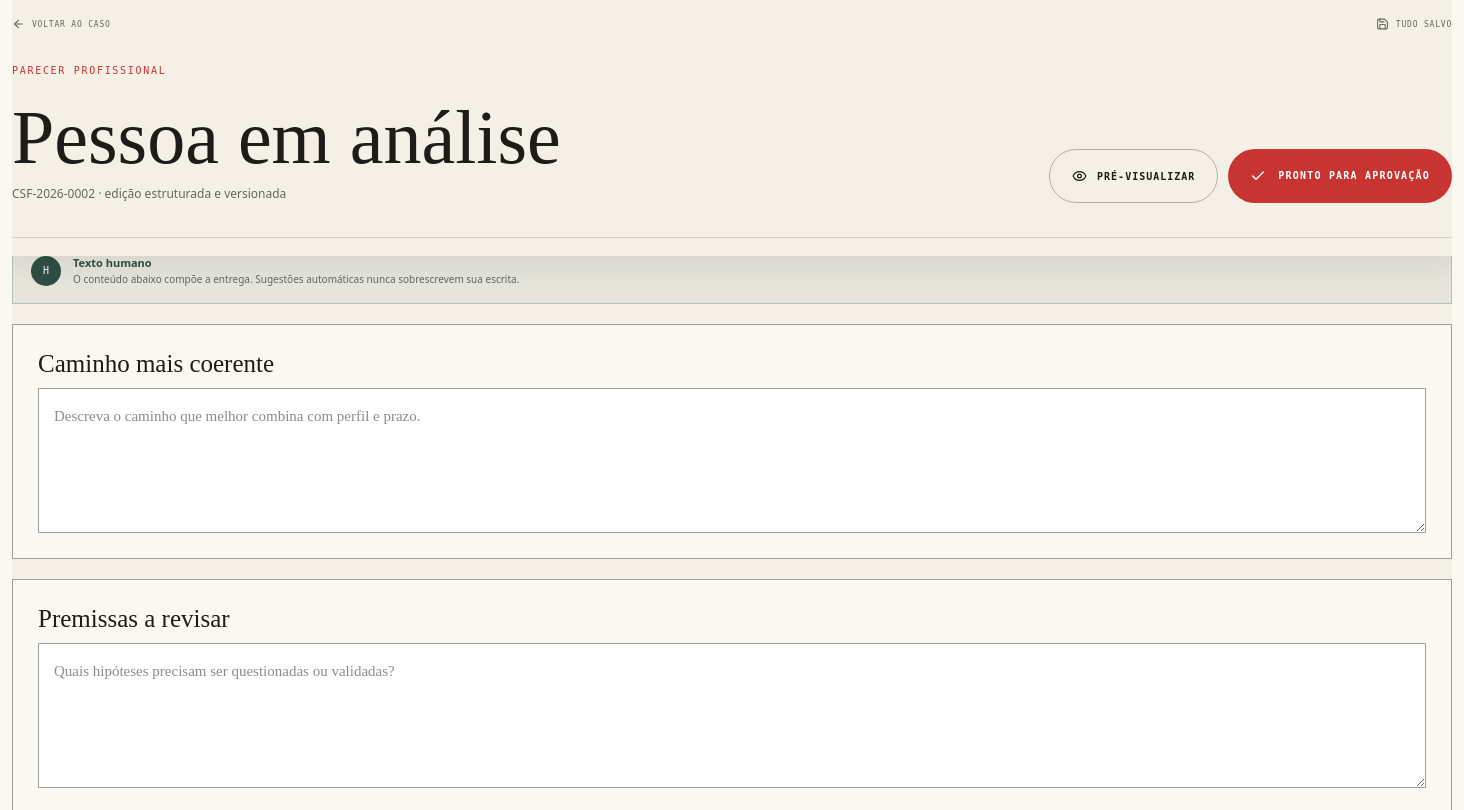
editor de parecer › confirma visualmente o envio para aprovação
Step 1. Click the button "Pronto para aprovação" → [1340, 176], box x1=1228 y1=149 x2=1452 y2=203
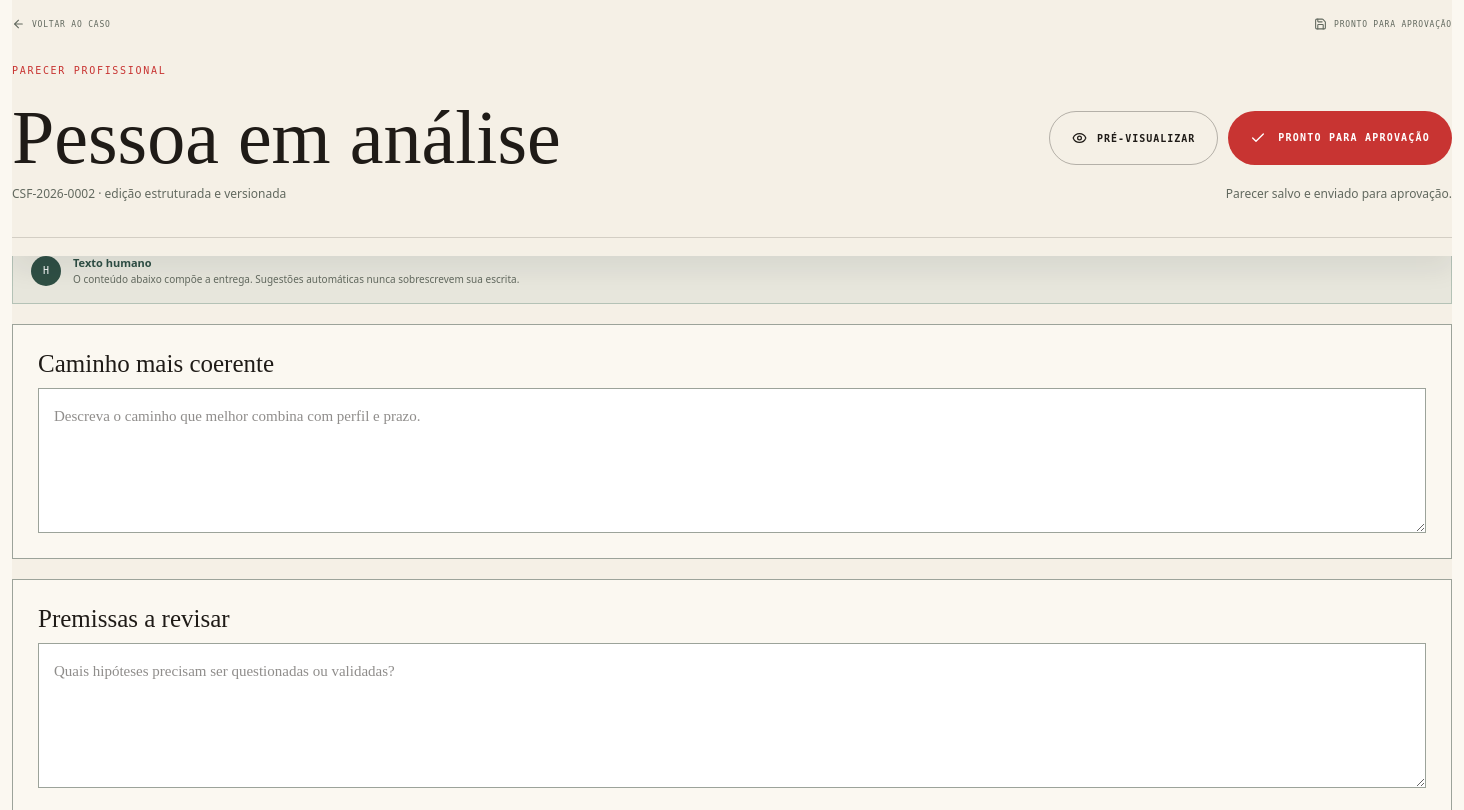
Now the message reads "Parecer salvo e enviado para aprovação.", box x1=1226 y1=185 x2=1452 y2=202
